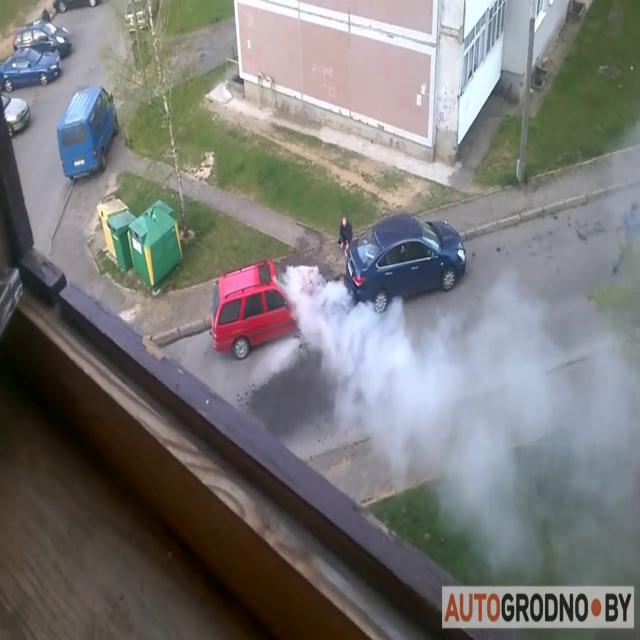Smoke: (316, 244, 640, 596)
